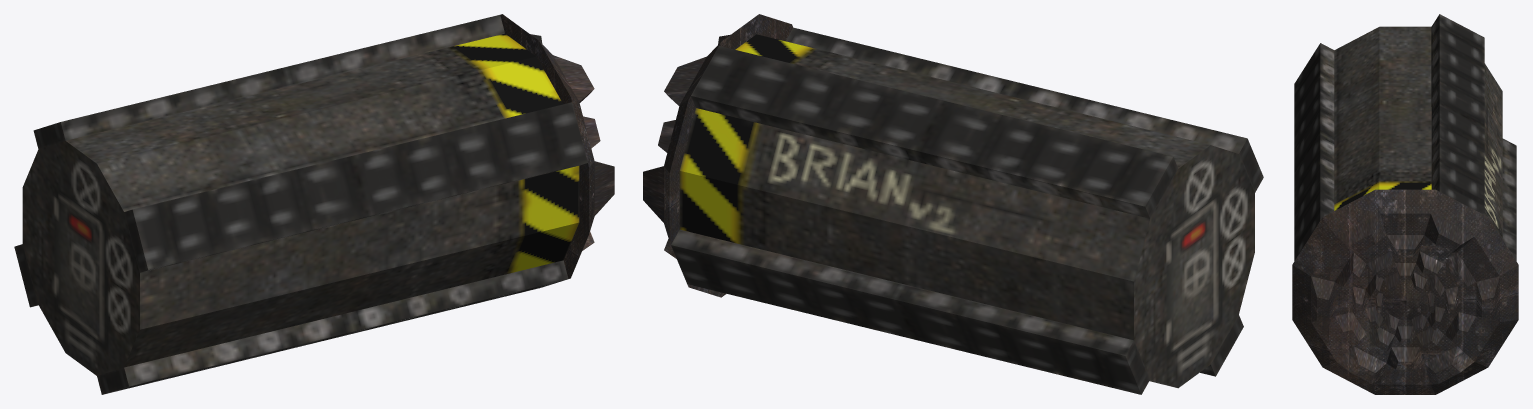
Rendered from drillv2.obj.
3 views of the same model, side by side, from view 1: azimuth 30°, elevation 25°; view 2: azimuth 150°, elevation 25°; view 3: azimuth 270°, elevation 25° (orthographic). The views are drawn at different scales.
Visible parts, largest first — view 1: drillbody, DrillBit; view 2: drillbody, DrillBit; view 3: DrillBit, drillbody.
Boxes of the visible parts, <box> form: drillbody: <box>14,15,587,394</box>; DrillBit: <box>500,14,614,278</box>; drillbody: <box>671,27,1263,394</box>; DrillBit: <box>643,14,792,297</box>; DrillBit: <box>1292,189,1518,394</box>; drillbody: <box>1294,14,1516,260</box>.
Bounding box in the file's own units: 1.78 × 0.875 × 0.875.
